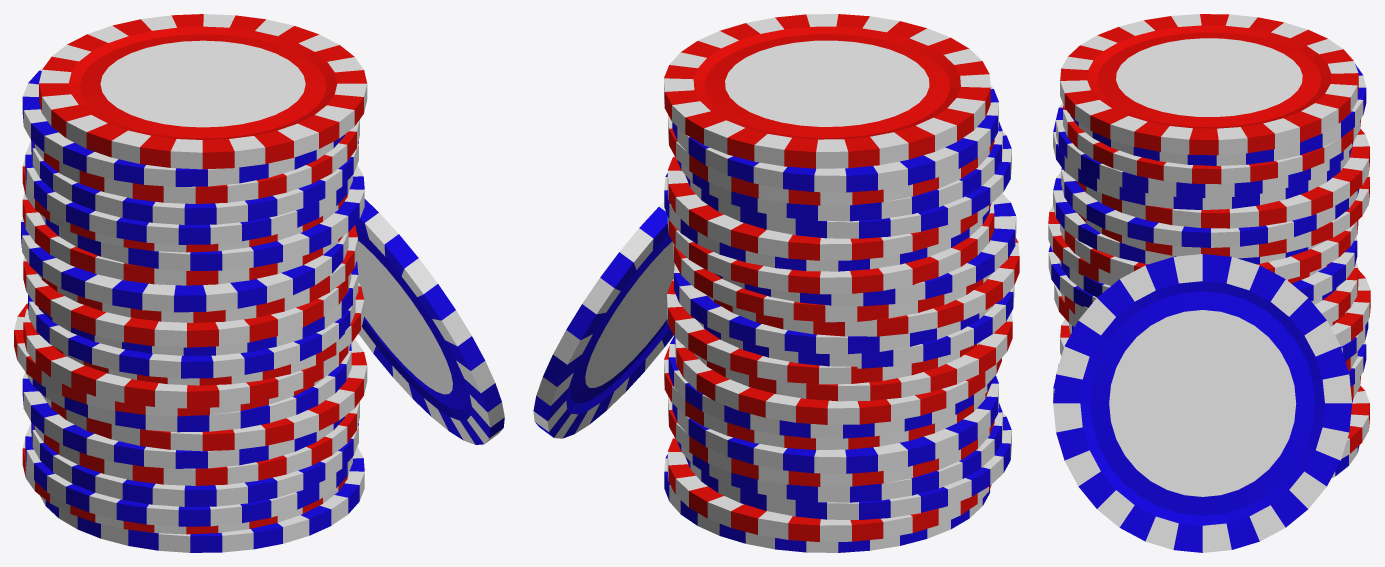
The model's file is pileofchips.fbx.
3 renders of one model, left to right at view 1: azimuth 30°, elevation 25°; view 2: azimuth 150°, elevation 25°; view 3: azimuth 270°, elevation 25°, orthographic. The views are drawn at different scales.
Parts seen in each view (by area): view 1: Cylinder.020, Cylinder.016, Cylinder.015, Cylinder.011, Cylinder.009, Cylinder.013, Cylinder.005, Cylinder.022, Cylinder.003, Cylinder.004, Cylinder.021, Cylinder (+13 smaller); view 2: Cylinder.020, Cylinder.016, Cylinder.023, Cylinder.006, Cylinder.008, Cylinder.018, Cylinder.001, Cylinder.033, Cylinder.010, Cylinder.004, Cylinder.021, Cylinder.014 (+13 smaller); view 3: Cylinder.016, Cylinder.020, Cylinder.018, Cylinder.017, Cylinder.019, Cylinder.022, Cylinder.021, Cylinder.023, Cylinder.033, Cylinder.012, Cylinder.015, Cylinder.014 (+8 smaller).
Boxes of the visible parts, bbox=[...] form: Cylinder.020: bbox=[39, 14, 367, 169]; Cylinder.016: bbox=[355, 199, 504, 444]; Cylinder.015: bbox=[21, 218, 348, 312]; Cylinder.011: bbox=[23, 256, 351, 347]; Cylinder.009: bbox=[23, 307, 350, 408]; Cylinder.013: bbox=[28, 294, 355, 378]; Cylinder.005: bbox=[31, 422, 358, 506]; Cylinder.022: bbox=[31, 141, 358, 224]; Cylinder.003: bbox=[42, 339, 367, 451]; Cylinder.004: bbox=[25, 423, 352, 526]; Cylinder.021: bbox=[25, 141, 352, 244]; Cylinder: bbox=[40, 447, 364, 552]; Cylinder.020: bbox=[664, 14, 990, 168]; Cylinder.016: bbox=[533, 202, 674, 438]; Cylinder.023: bbox=[672, 85, 998, 192]; Cylinder.006: bbox=[672, 375, 998, 473]; Cylinder.008: bbox=[675, 338, 1001, 424]; Cylinder.018: bbox=[667, 155, 991, 260]; Cylinder.001: bbox=[667, 437, 991, 542]; Cylinder.033: bbox=[667, 201, 994, 294]; Cylinder.010: bbox=[667, 279, 981, 384]; Cylinder.004: bbox=[685, 413, 1011, 519]; Cylinder.021: bbox=[685, 131, 1011, 238]; Cylinder.014: bbox=[674, 263, 993, 354]; Cylinder.016: bbox=[1053, 254, 1352, 552]; Cylinder.020: bbox=[1060, 14, 1358, 155]; Cylinder.018: bbox=[1076, 129, 1369, 228]; Cylinder.017: bbox=[1061, 168, 1359, 247]; Cylinder.019: bbox=[1063, 105, 1361, 184]; Cylinder.022: bbox=[1056, 102, 1353, 198]; Cylinder.021: bbox=[1053, 120, 1351, 209]; Cylinder.023: bbox=[1070, 64, 1366, 165]; Cylinder.033: bbox=[1076, 174, 1369, 258]; Cylinder.012: bbox=[1060, 220, 1358, 279]; Cylinder.015: bbox=[1053, 171, 1327, 264]; Cylinder.014: bbox=[1059, 237, 1357, 300].
Size of the model in its own units: 148 by 136 by 108.
